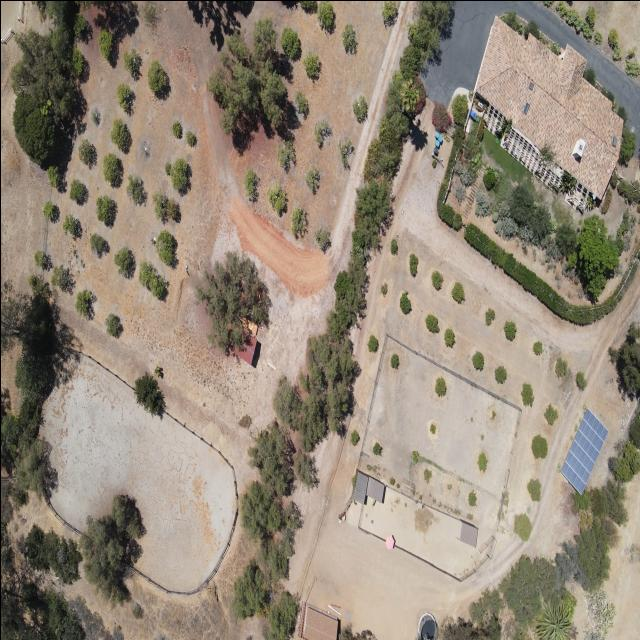solar-panels: (554, 406, 613, 494)
